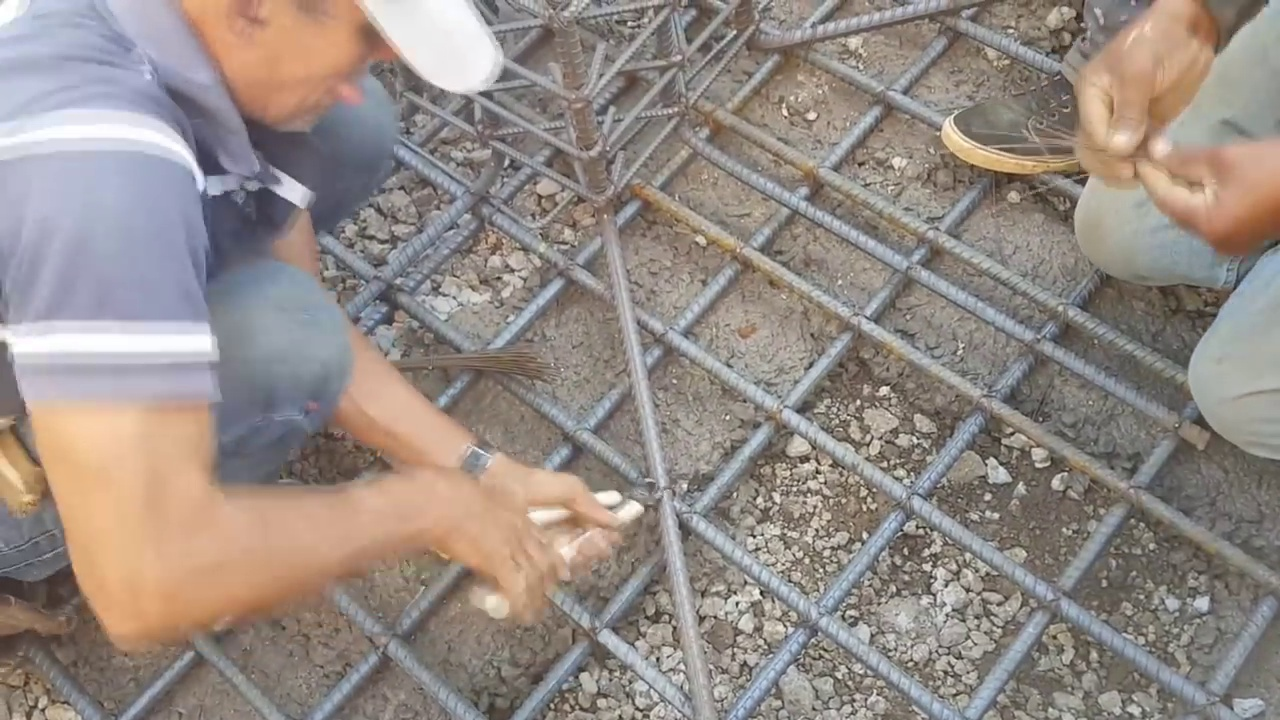helmet-off: (164, 4, 498, 173)
person: (0, 7, 639, 652), (936, 5, 1280, 471)
